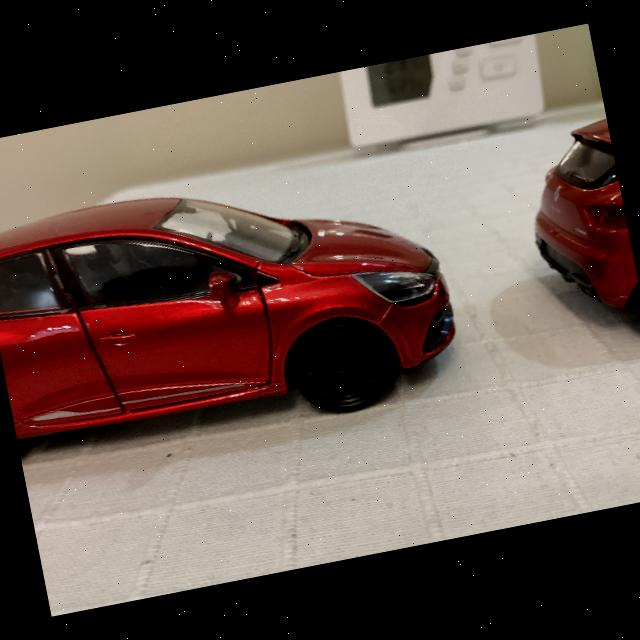Dogru_Jant: (302, 327, 388, 408)
